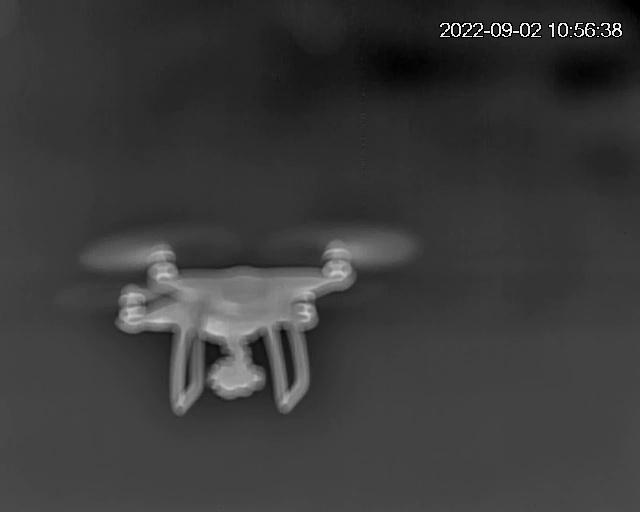DJI-Phantom: (82, 226, 408, 416)
